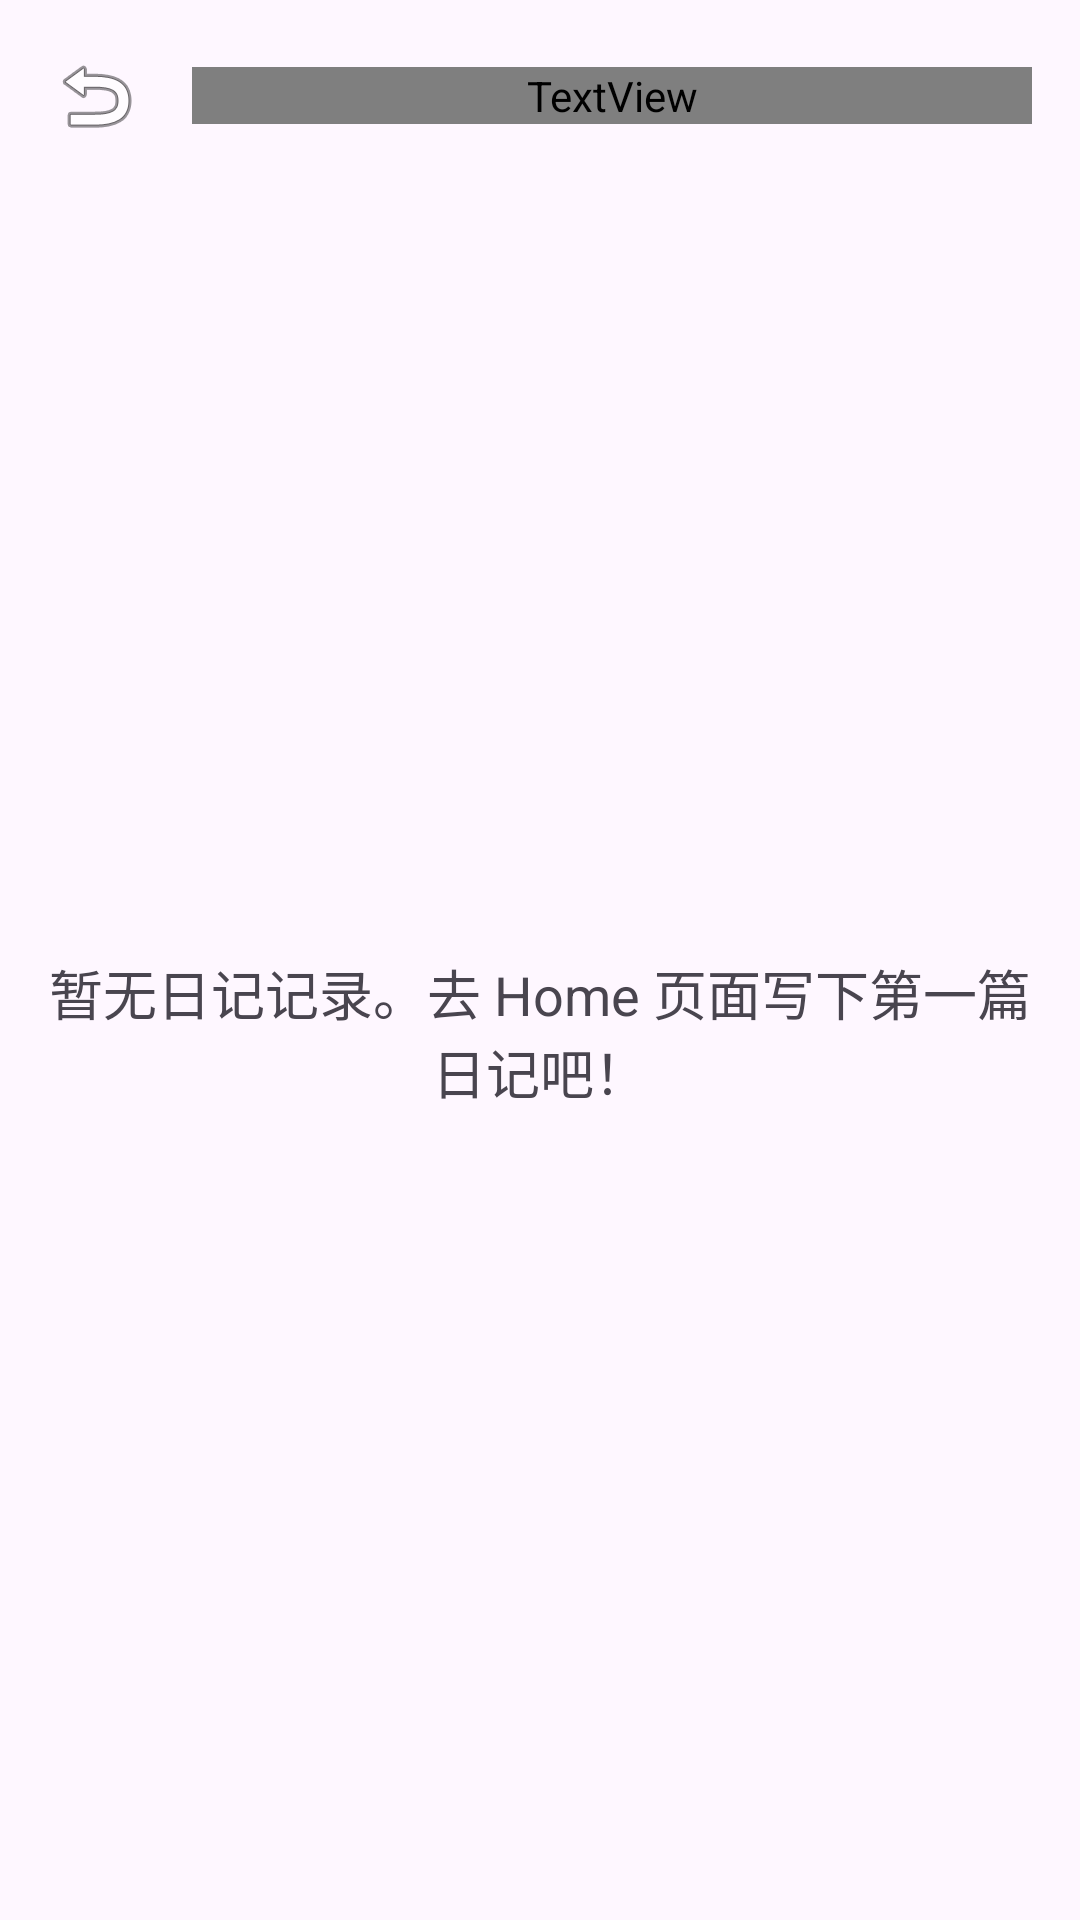

Icon click points for this 1080*1920 phone screenshot, format [x,y]:
返回: [97,96]
